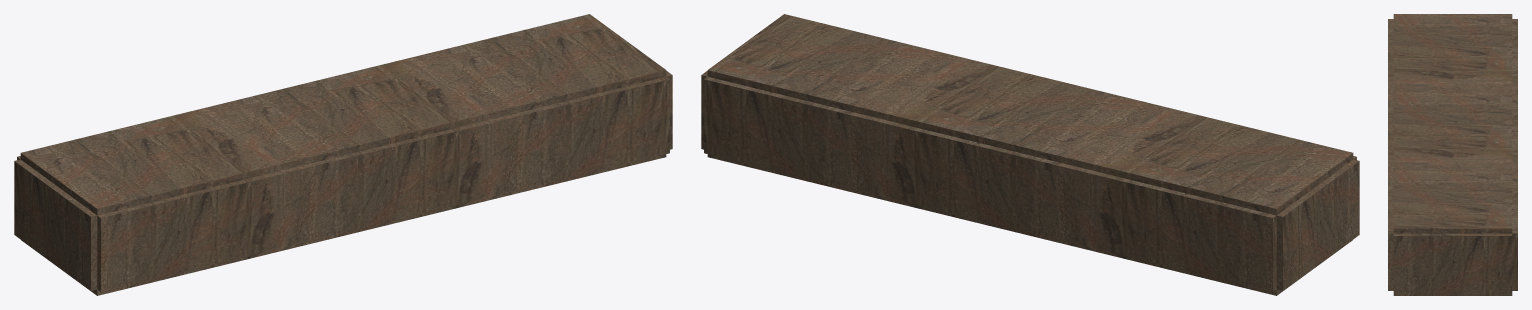
Rendered from crypt_trilithon_lintel.glb.
3 renders of one model, left to right at view 1: azimuth 30°, elevation 25°; view 2: azimuth 150°, elevation 25°; view 3: azimuth 270°, elevation 25°, orthographic. The views are drawn at different scales.
Parts seen in each view (by area): view 1: crypt_trilithon_lintel.001; view 2: crypt_trilithon_lintel.001; view 3: crypt_trilithon_lintel.001.
Boxes of the visible parts, left/top/right/bottom form: crypt_trilithon_lintel.001: left=14, top=14, right=672, bottom=295; crypt_trilithon_lintel.001: left=701, top=14, right=1359, bottom=295; crypt_trilithon_lintel.001: left=1388, top=14, right=1517, bottom=295.
Size of the model in its own units: 5.6 by 0.7998 by 1.4.
1 material, 1 textured.
